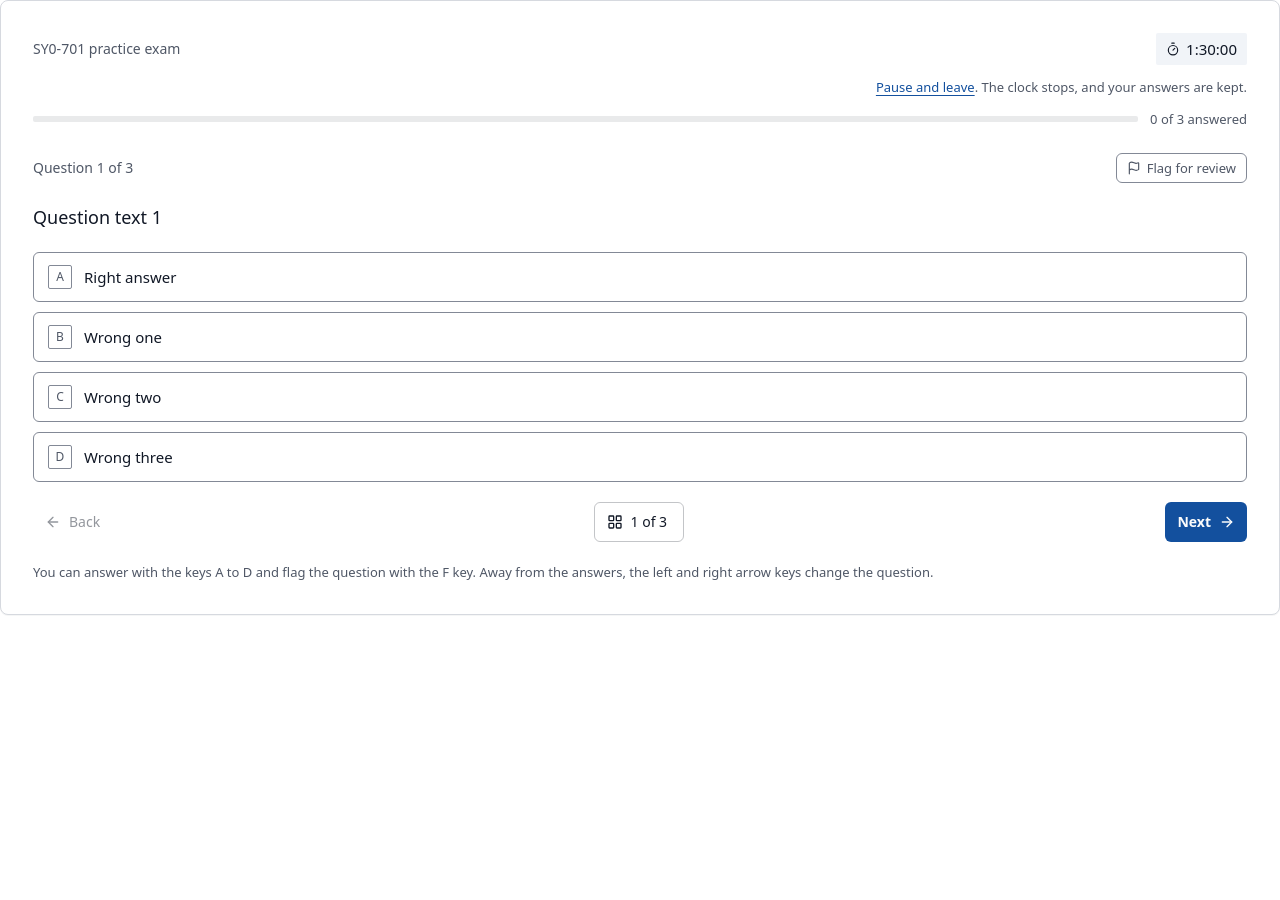
Test: RehearsalPlayer › moves on and back, and flags a question to come back to
What coordinates should you click on to do the following:
click the button "Next"
I would click on:
 (1206, 522)
Its box is [1166,502,1247,542].
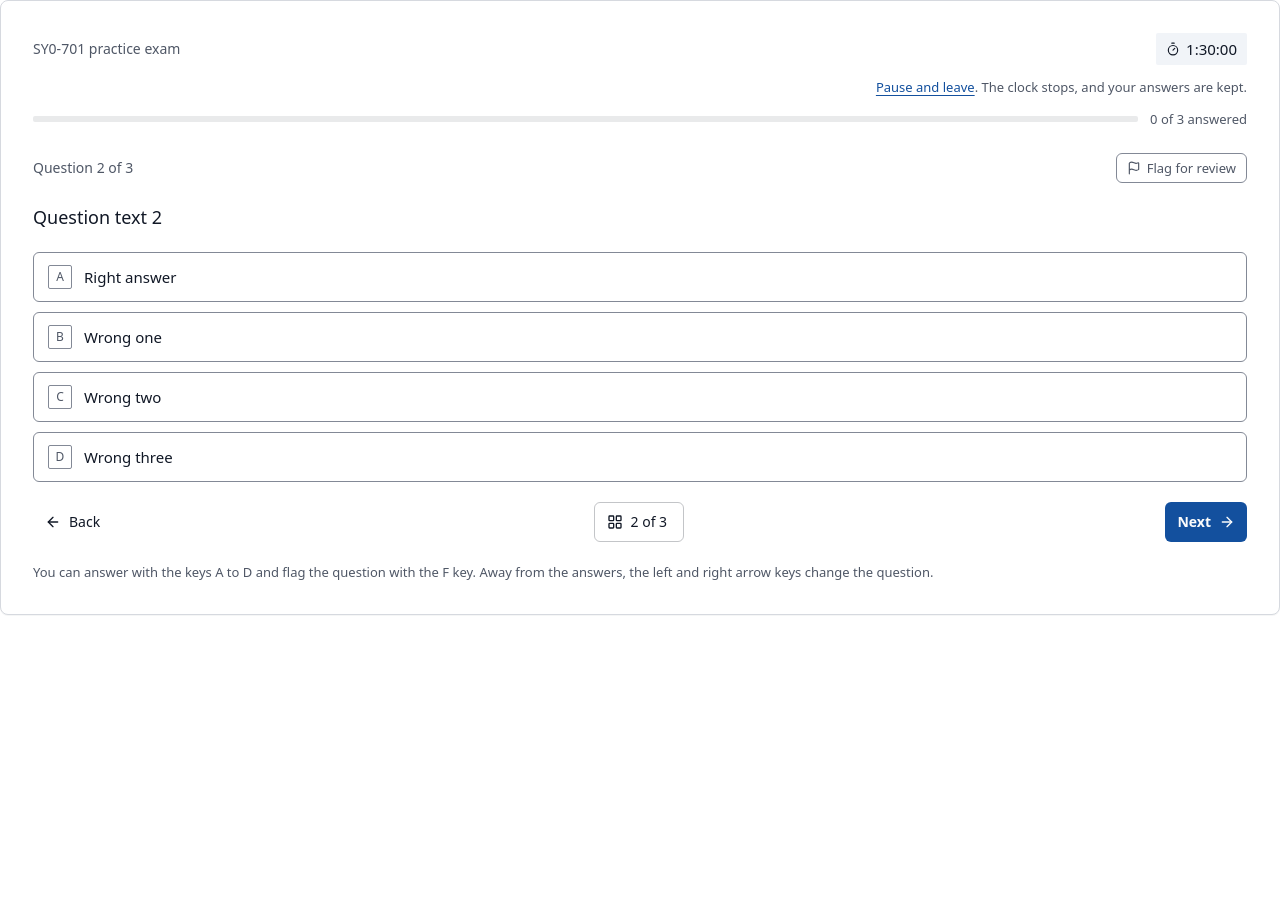
What coordinates should you click on to do the following:
click the button "Flag for review"
I would click on:
 (1181, 168)
Its box is [1116,153,1247,183].
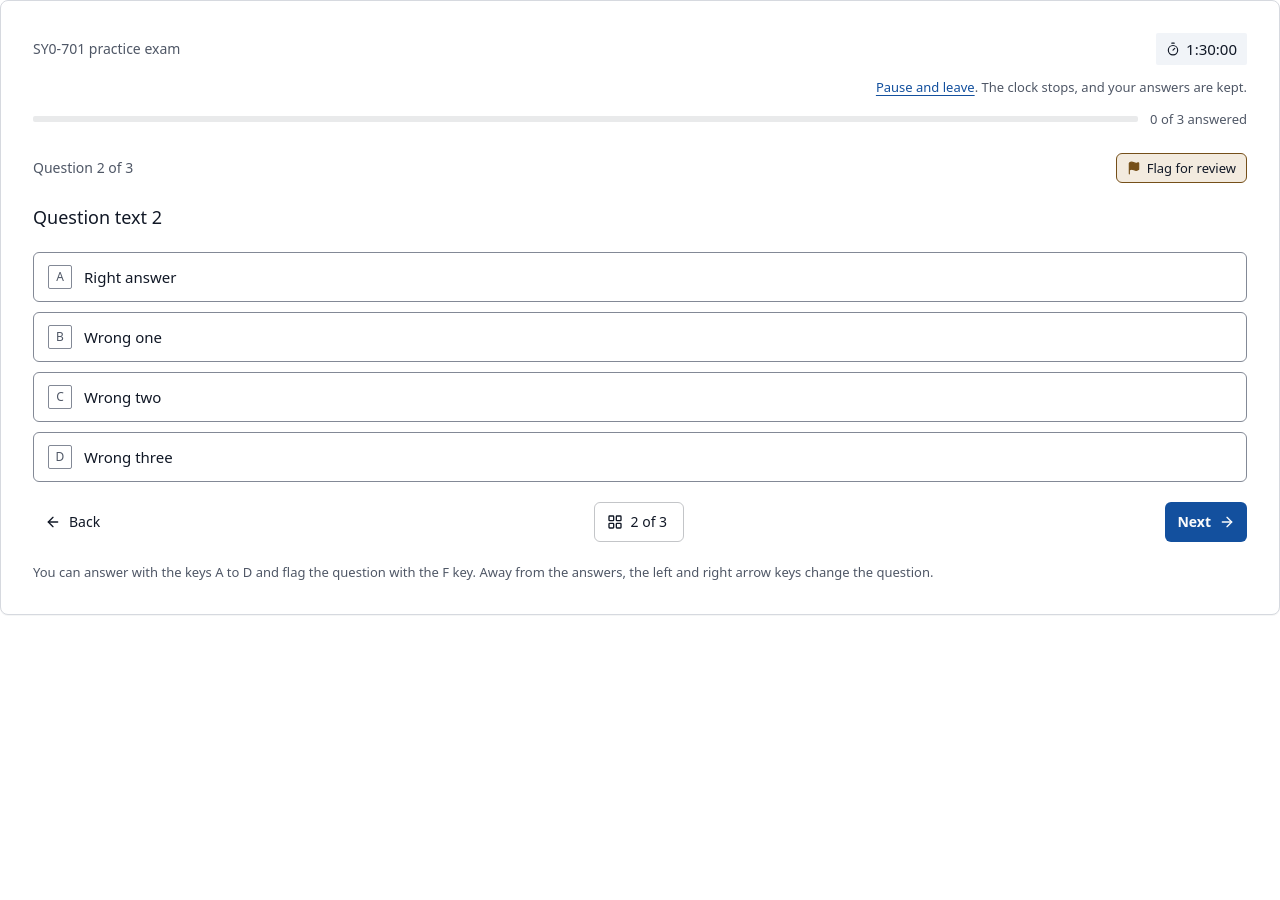
Now the button "Flag for review" is pressed, box [1116,153,1247,183]
What coordinates should you click on to do the following:
click the button "Back"
I would click on:
 (73, 522)
Its box is [33,502,112,542].
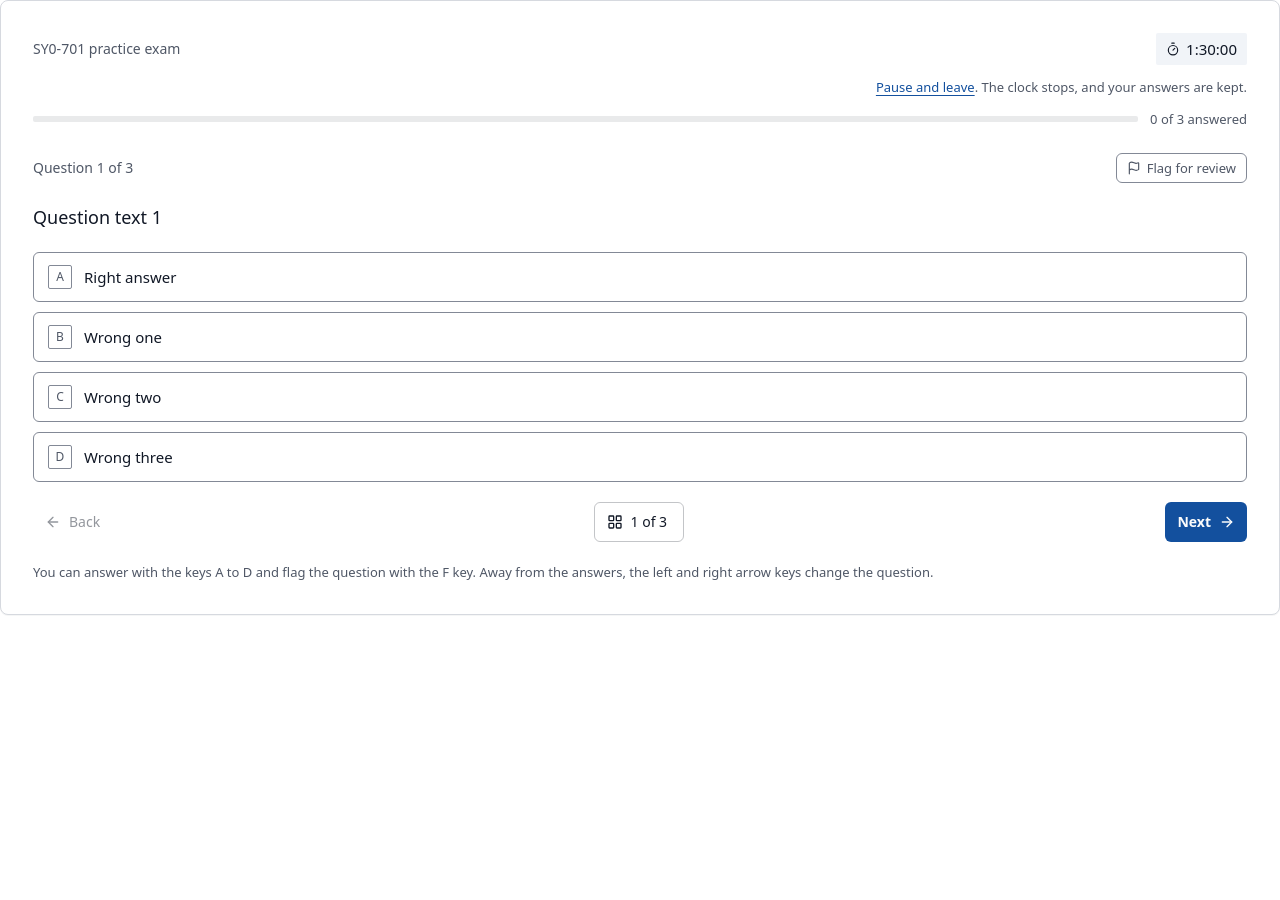
Now the heading "Question text 1" is shown, box [33,205,162,229]
